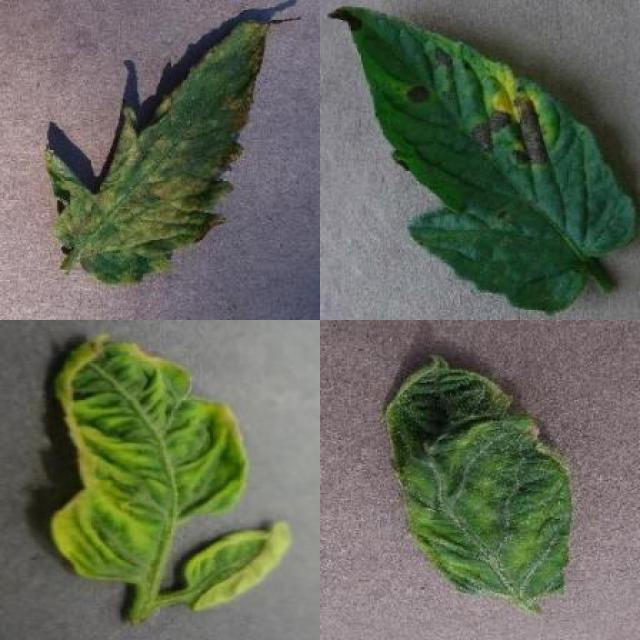Early Blight: (330, 5, 637, 315)
Leaf Mold: (44, 14, 270, 287)
Yellow Leaf Curl Virus: (47, 334, 249, 584), (385, 350, 572, 600), (183, 520, 290, 614)
